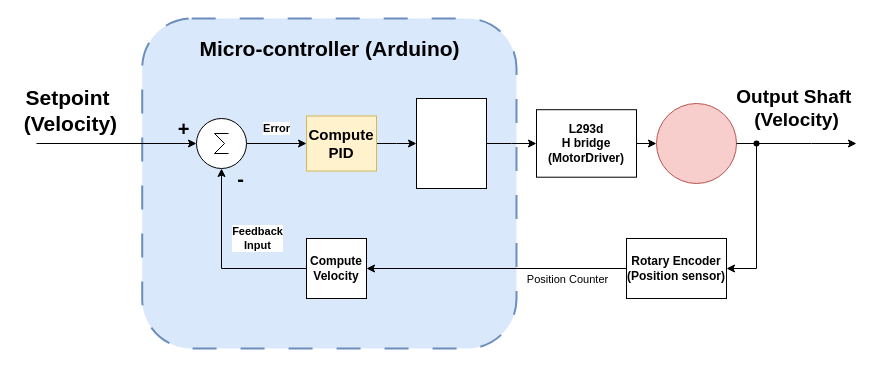
Some shapes in this 882 by 366 pixel diagram are drawn without their labels. Here are the shapes that lost their labels. From the top down, the centre of each, then its label:
point 451,143: Convert to PWM (0 - 255)
point 696,143: MOTOR
